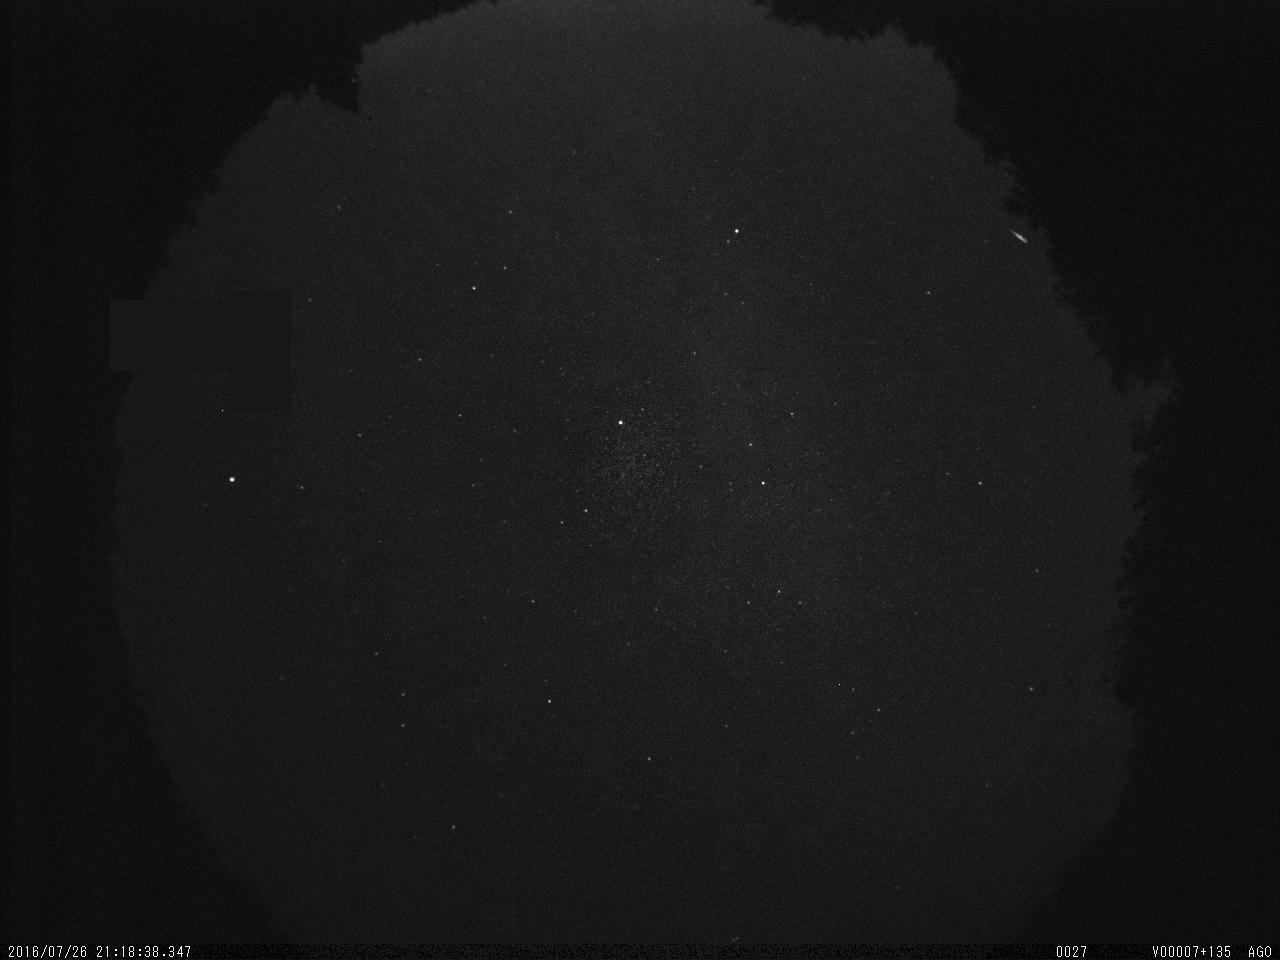meteor: (996, 214, 1045, 259)
